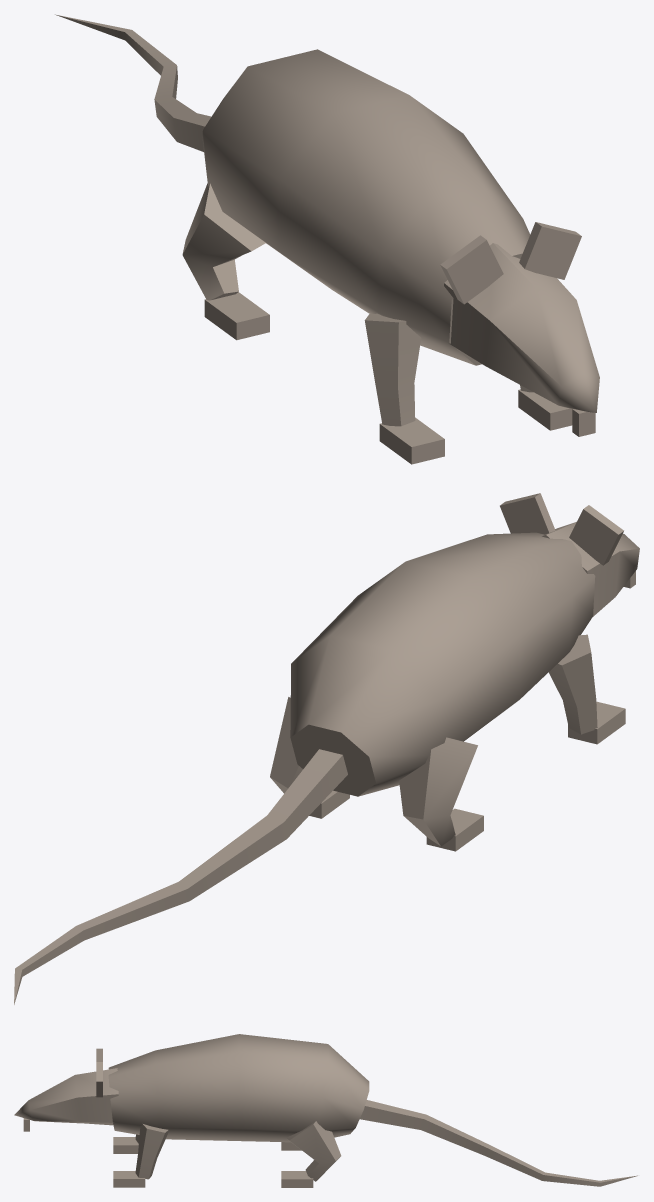
The model's file is rat.glb.
3 renders of one model, top to bottom at view 1: azimuth 30°, elevation 25°; view 2: azimuth 150°, elevation 25°; view 3: azimuth 270°, elevation 25°, orthographic. The views are drawn at different scales.
Visible parts, largest first — view 1: body, head, leg_br, leg_fr, tail, leg_fl; view 2: body, tail, head, leg_br, leg_fr, leg_bl; view 3: body, head, tail, leg_bl, leg_fl, leg_fr.
Boxes of the visible parts, x1,y1,x2,y2 form: body: (202, 49, 530, 365); head: (440, 222, 599, 436); leg_br: (182, 183, 269, 340); leg_fr: (364, 313, 444, 464); tail: (55, 14, 211, 151); leg_fl: (518, 385, 572, 430); body: (290, 532, 595, 796); tail: (14, 749, 347, 1004); head: (500, 493, 639, 616); leg_br: (399, 737, 483, 851); leg_fr: (548, 634, 625, 744); leg_bl: (270, 697, 349, 818); body: (108, 1034, 369, 1142); head: (14, 1048, 118, 1131); tail: (360, 1100, 637, 1186); leg_bl: (281, 1121, 341, 1187); leg_fl: (113, 1123, 168, 1187); leg_fr: (113, 1134, 139, 1153).
Size of the model in its own units: 0.1281 by 0.1327 by 0.61.
